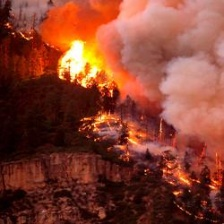fire: (88, 109, 165, 151), (57, 40, 97, 81), (166, 166, 220, 189)
